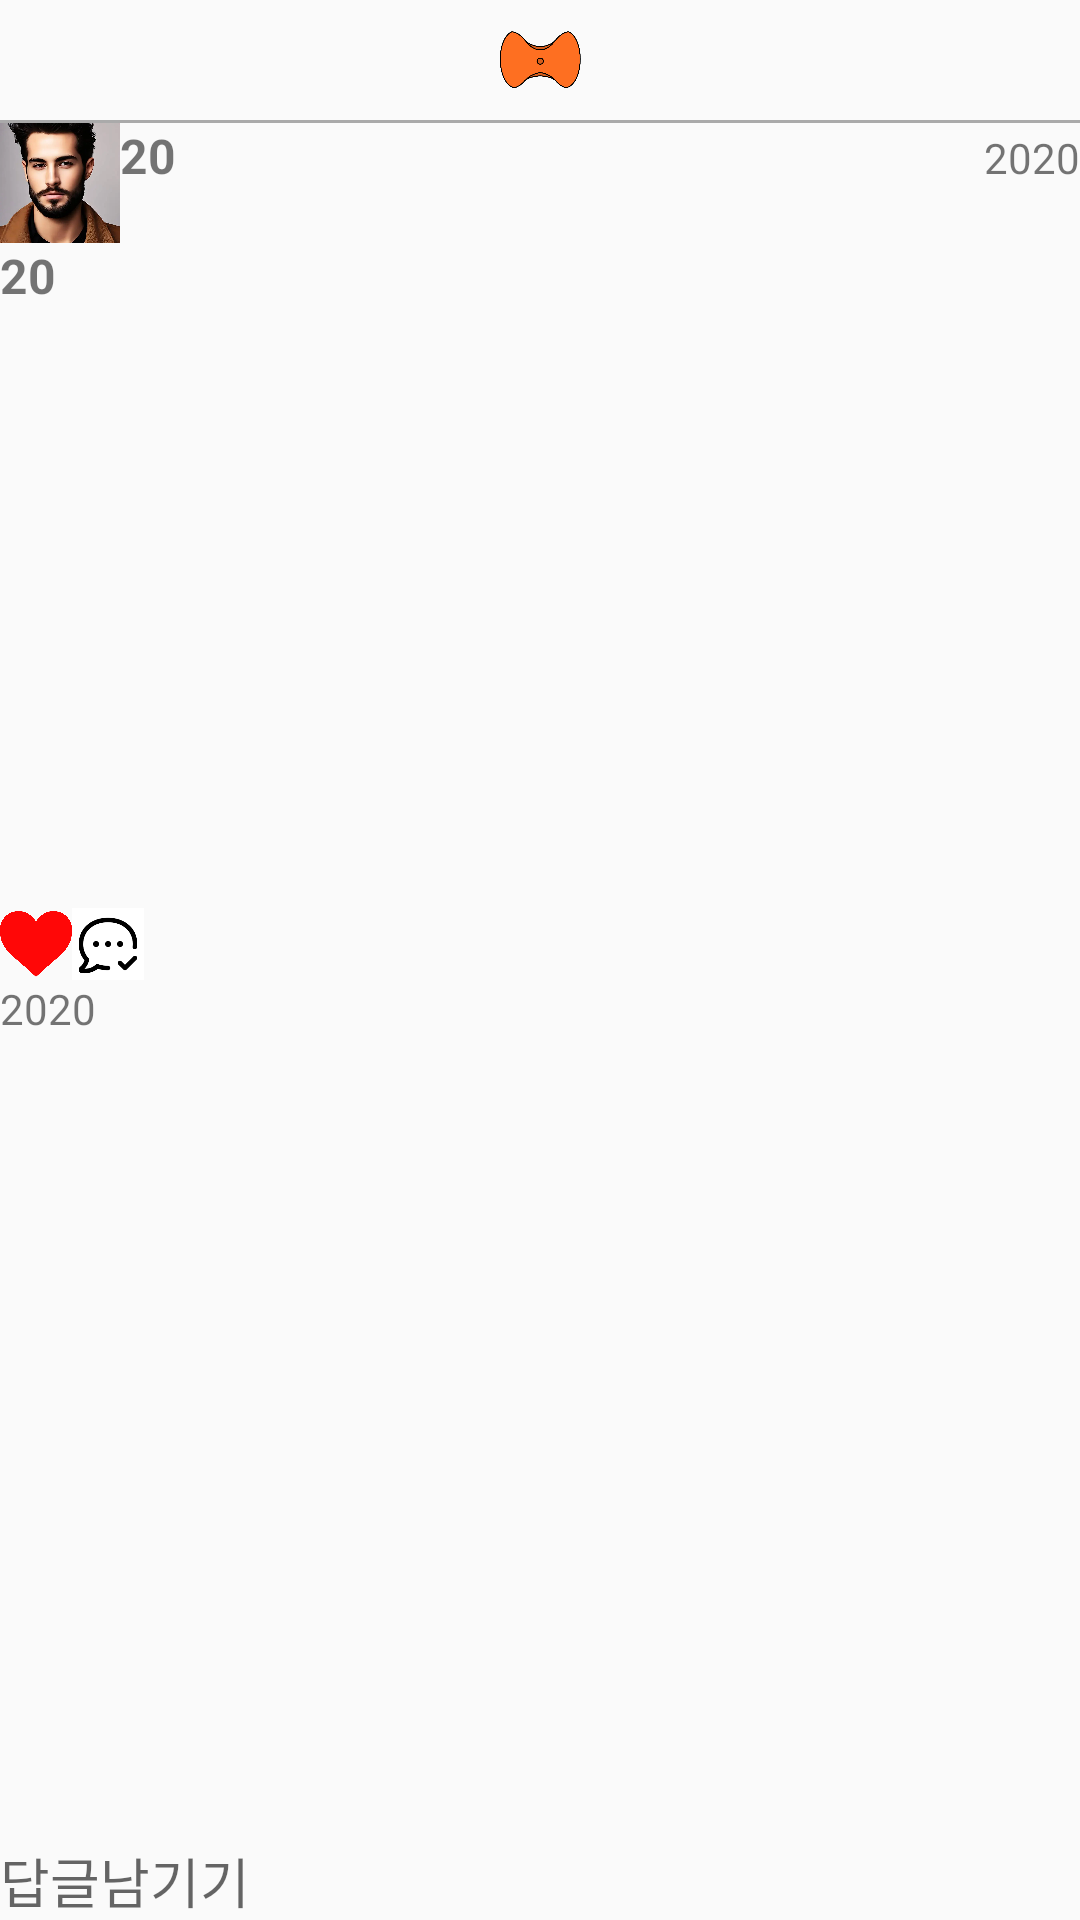

Where to tap for icons on this 1080×1920 app screen, as (x=x, y=y):
comment: (x=108, y=945)
heart: (x=36, y=943)
profile: (x=60, y=183)
